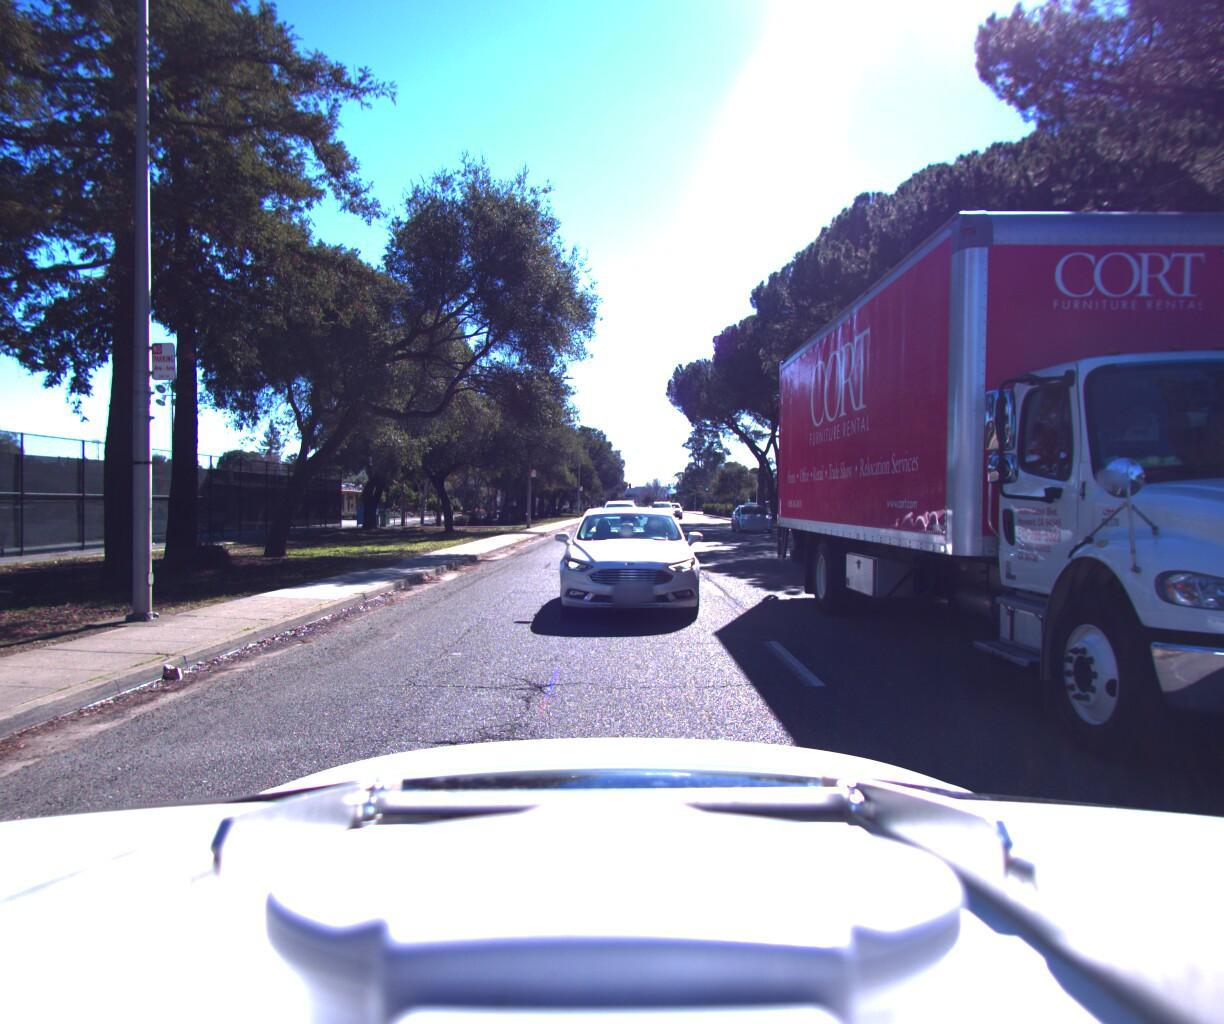car: (541, 502, 714, 647), (731, 496, 783, 532), (596, 495, 641, 535), (648, 496, 676, 519)
